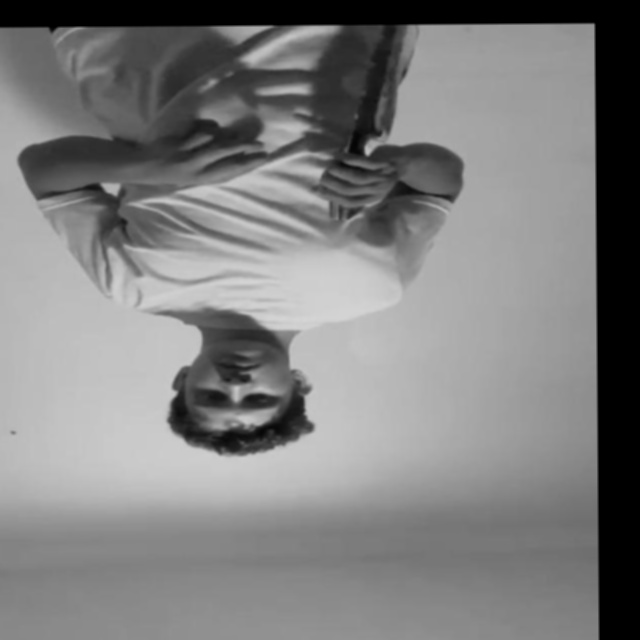Sharp-Object: (350, 25, 410, 144)
